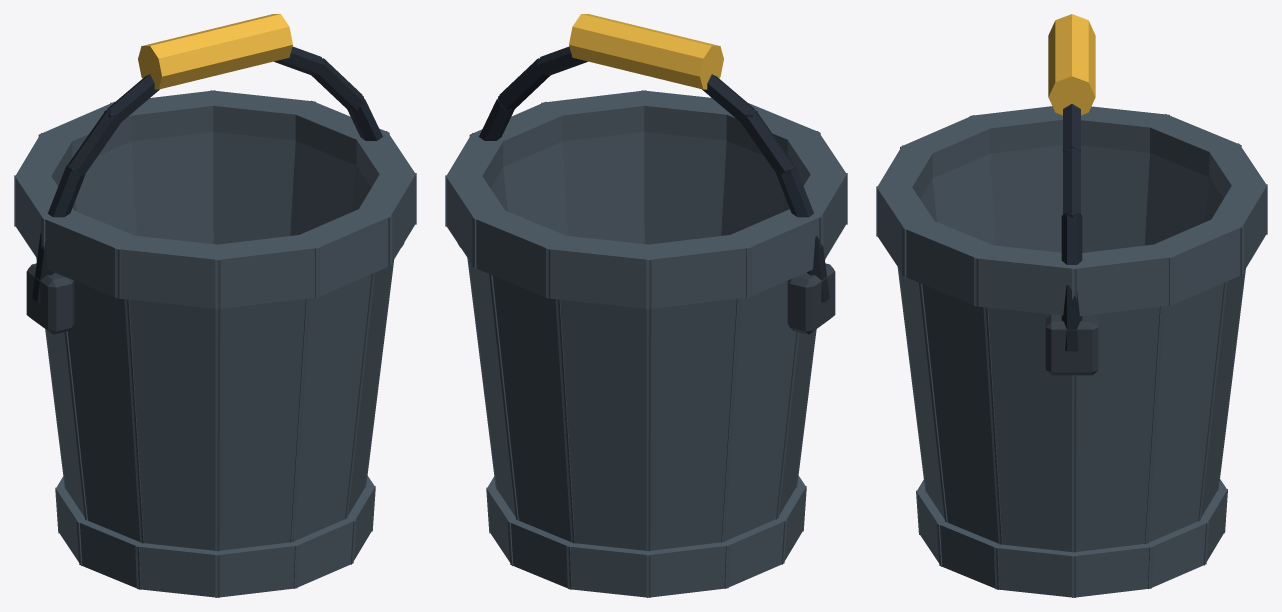
Rendered from Prop_Bucket.fbx.
The picture shows the model from 3 angles, left to right: view 1: azimuth 30°, elevation 25°; view 2: azimuth 150°, elevation 25°; view 3: azimuth 270°, elevation 25°; orthographic projection. The views are drawn at different scales.
Visible parts, largest first — view 1: Frame, Amber_Metal, Slate, FrameDark; view 2: Frame, Amber_Metal, Slate, FrameDark; view 3: Frame, Amber_Metal, Slate, FrameDark.
Part boxes in pixels (box(x1,y1,x2,y2)): Frame: box(14, 90, 416, 597); Amber_Metal: box(138, 14, 292, 89); Slate: box(32, 46, 382, 302); FrameDark: box(26, 243, 404, 334); Frame: box(445, 90, 847, 597); Amber_Metal: box(569, 14, 723, 89); Slate: box(479, 46, 829, 302); FrameDark: box(458, 244, 835, 334); Frame: box(876, 106, 1267, 597); Amber_Metal: box(1048, 14, 1095, 115); Slate: box(1061, 104, 1082, 351); FrameDark: box(1045, 314, 1098, 375).
Bounding box in the file's own units: 1.38 × 1.83 × 1.33.
